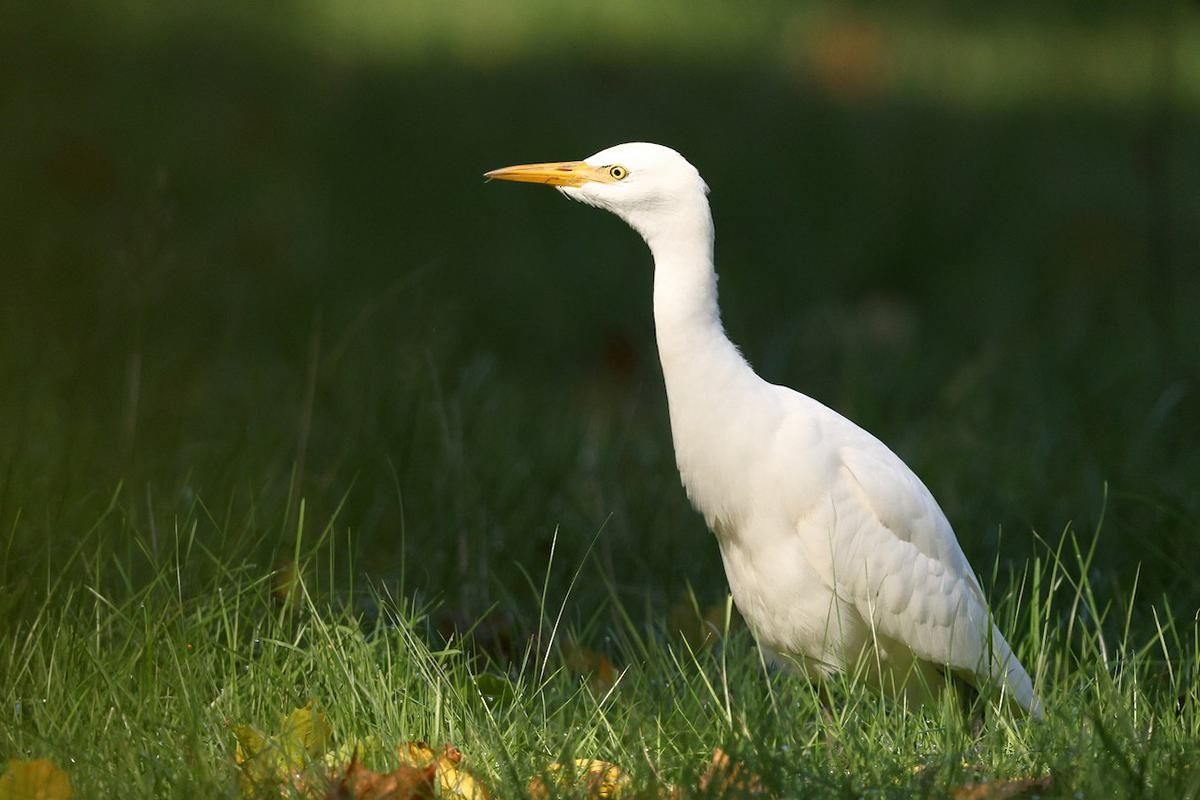egret: (448, 114, 997, 710)
